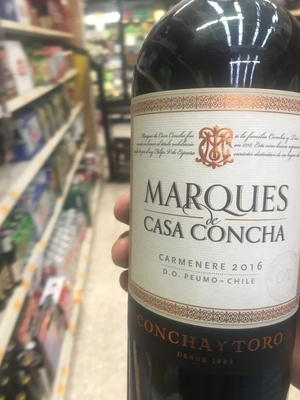marques de casa concha carmenere: (113, 15, 300, 392)
